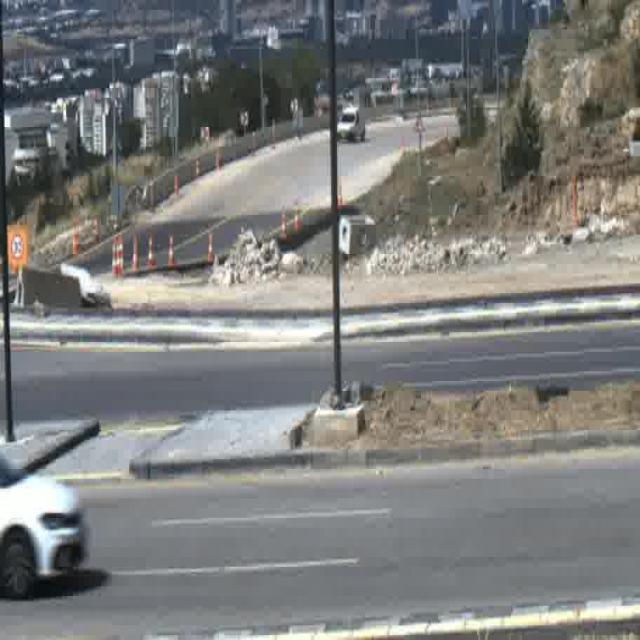Car: (0, 444, 88, 592), (336, 106, 366, 140)
